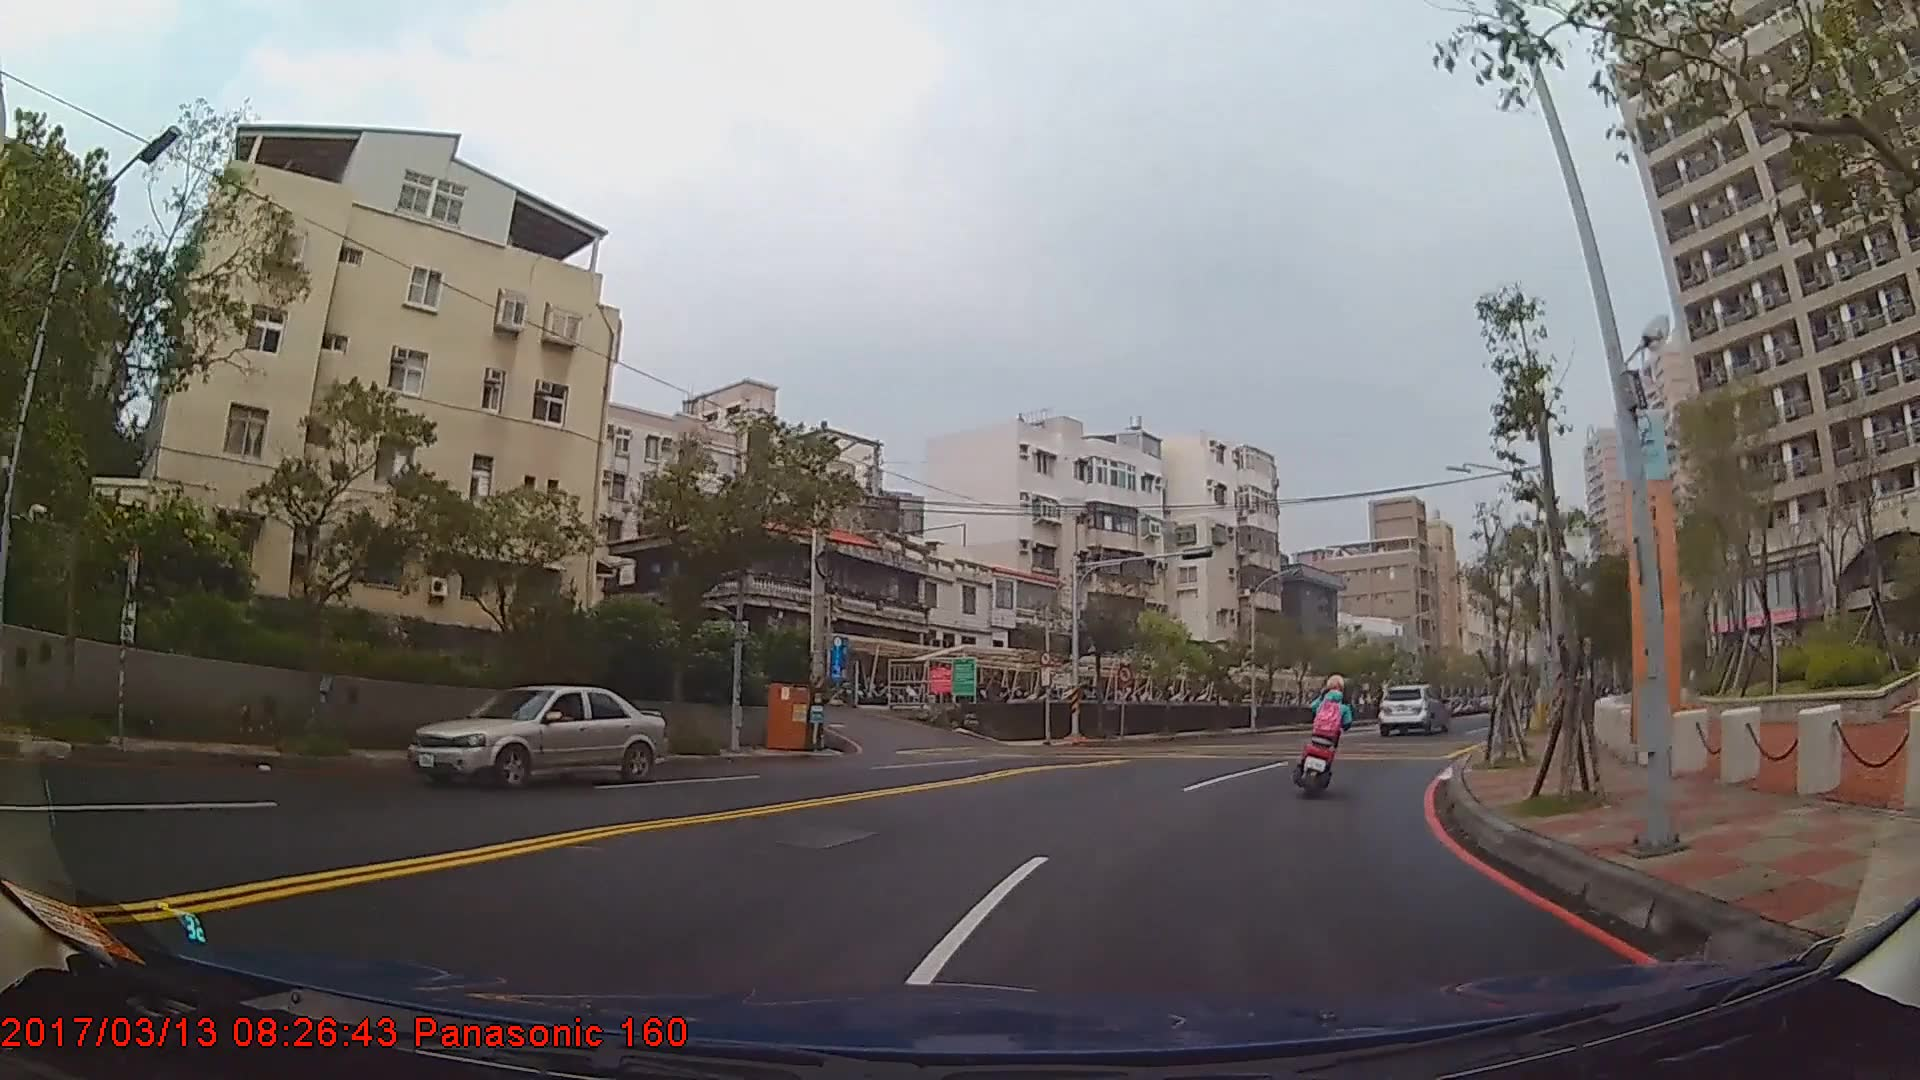rider: (1298, 674, 1357, 794)
vehicle: (405, 683, 665, 790), (1377, 681, 1444, 735)
